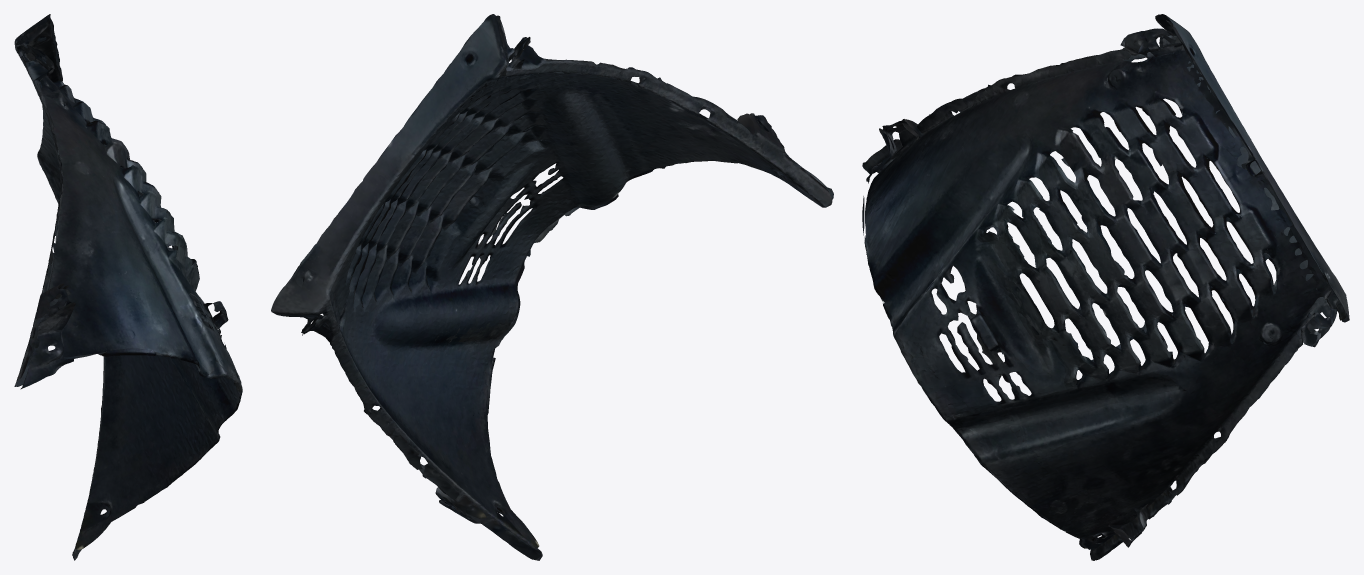
Rendered from SPD-26674X-B.obj.
3 views of the same model, side by side, from view 1: azimuth 30°, elevation 25°; view 2: azimuth 150°, elevation 25°; view 3: azimuth 270°, elevation 25° (orthographic). The views are drawn at different scales.
Visible parts, largest first — view 1: SPD-26674X-B; view 2: SPD-26674X-B; view 3: SPD-26674X-B.
Part boxes in pixels (x1,y1,x2,y2): SPD-26674X-B: (14,14,242,560); SPD-26674X-B: (271,14,833,560); SPD-26674X-B: (862,14,1349,560).
Size of the model in its own units: 281 by 488 by 392.
1 material, 1 textured.
